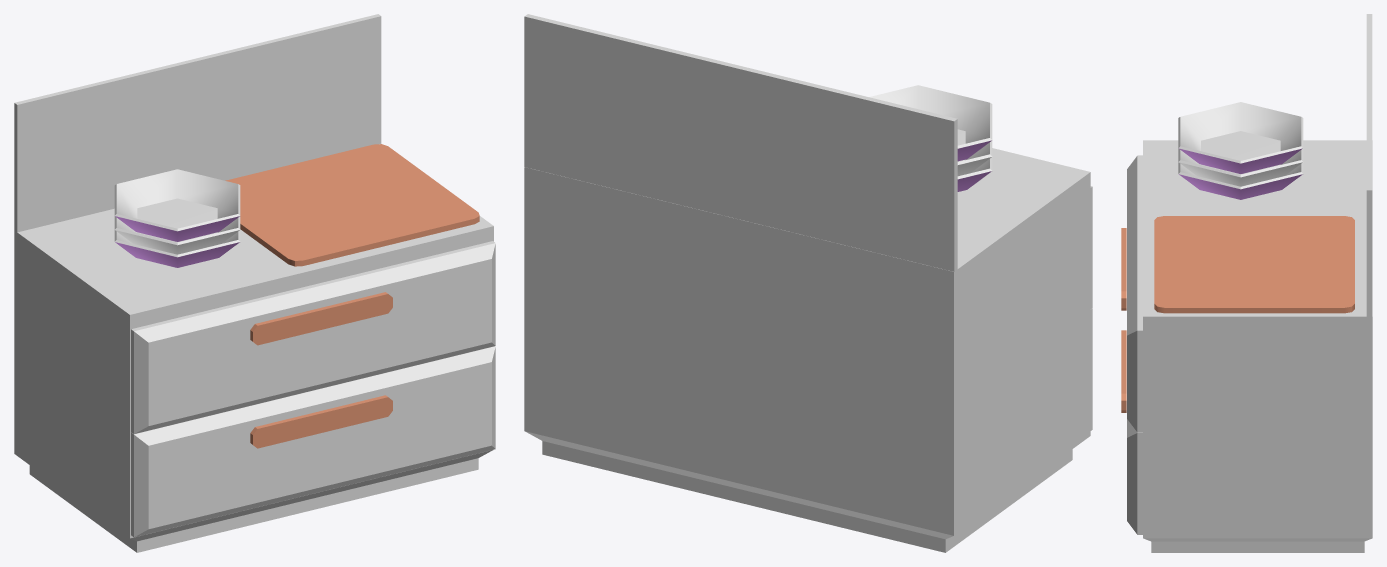
Rendered from Kitchen_Drawer.fbx.
3 renders of one model, left to right at view 1: azimuth 30°, elevation 25°; view 2: azimuth 150°, elevation 25°; view 3: azimuth 270°, elevation 25°, orthographic. The views are drawn at different scales.
Visible parts, largest first — view 1: polySurface102, Drawer, Drawer1, Pot3, Pot4, Pot5; view 2: polySurface102, Pot3; view 3: polySurface102, Pot3, Drawer, Drawer1, Pot4, Pot5.
Part boxes in pixels (x1,y1,x2,y2): polySurface102: [14, 14, 493, 552]; Drawer: [131, 241, 495, 433]; Drawer1: [131, 346, 495, 537]; Pot3: [114, 169, 240, 241]; Pot4: [114, 216, 240, 254]; Pot5: [114, 230, 240, 267]; polySurface102: [524, 14, 1090, 552]; Pot3: [869, 85, 992, 161]; polySurface102: [1143, 14, 1372, 552]; Pot3: [1178, 102, 1303, 173]; Drawer: [1121, 155, 1142, 432]; Drawer1: [1121, 330, 1142, 534]; Pot4: [1178, 148, 1303, 186]; Pot5: [1178, 162, 1303, 199].
Size of the model in its own units: 2.99 by 2.92 by 1.8.
